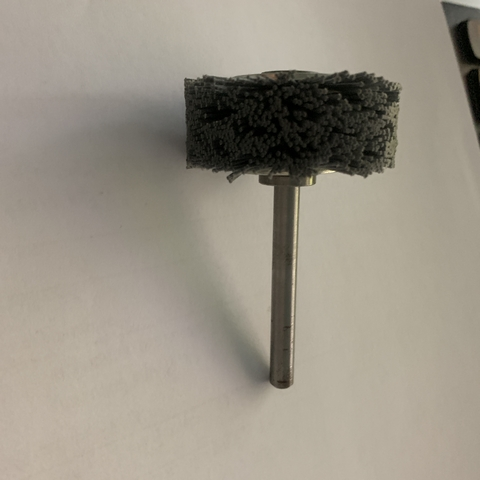Wheel Brush: (179, 64, 410, 378), (210, 55, 399, 388), (196, 42, 384, 373), (150, 43, 434, 253)
